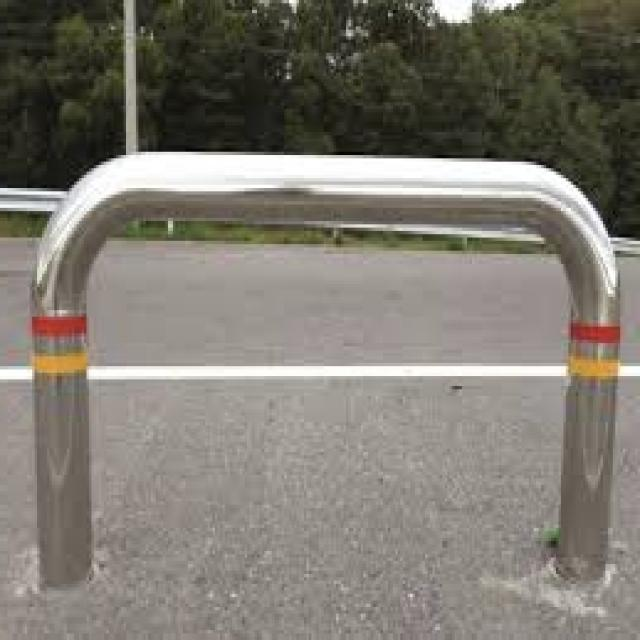bollard: (23, 129, 640, 595)
